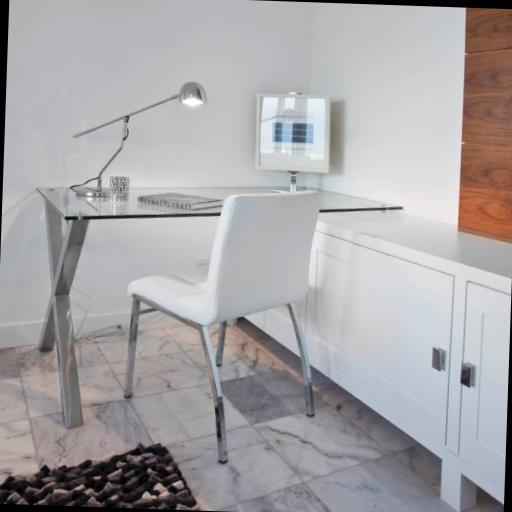chair: (119, 184, 322, 466)
desk: (28, 177, 403, 440)
wall: (0, 0, 313, 359), (306, 2, 465, 225)
